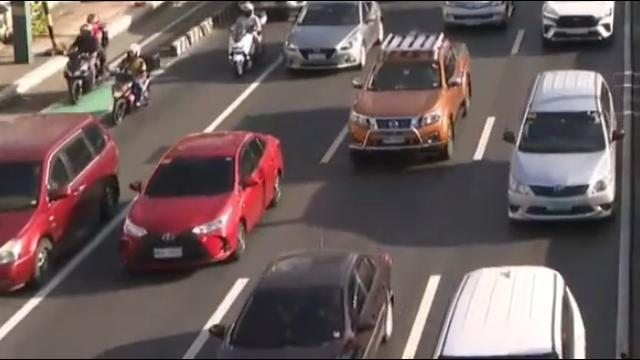car: (123, 131, 285, 273), (0, 112, 119, 295), (212, 250, 401, 360), (504, 70, 625, 224), (427, 266, 590, 360), (283, 0, 381, 73)
motorcycle: (65, 14, 108, 109), (109, 44, 155, 126), (226, 3, 268, 80)
pickup-truck: (346, 34, 470, 159)
